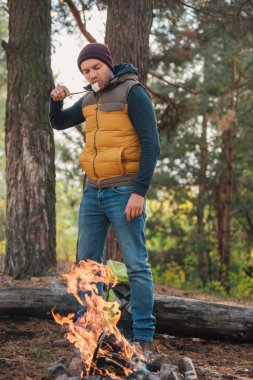fire: (51, 258, 140, 368)
